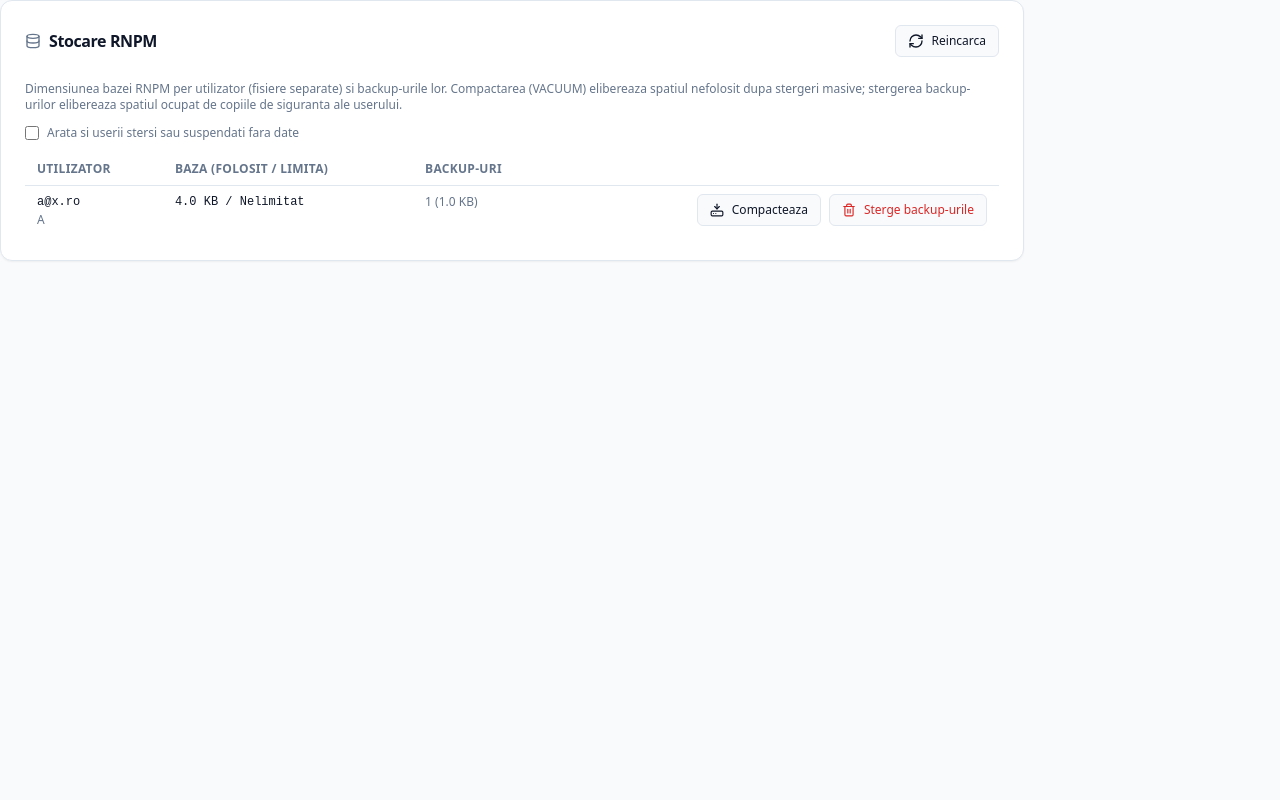
Scenario: AdminRnpmStorage (embedded) › 409 la stergerea backup-urilor se afiseaza ca mesaj prietenos
Click the button "Sterge backup-urile" at (908,210), box 829,194 -> 987,226
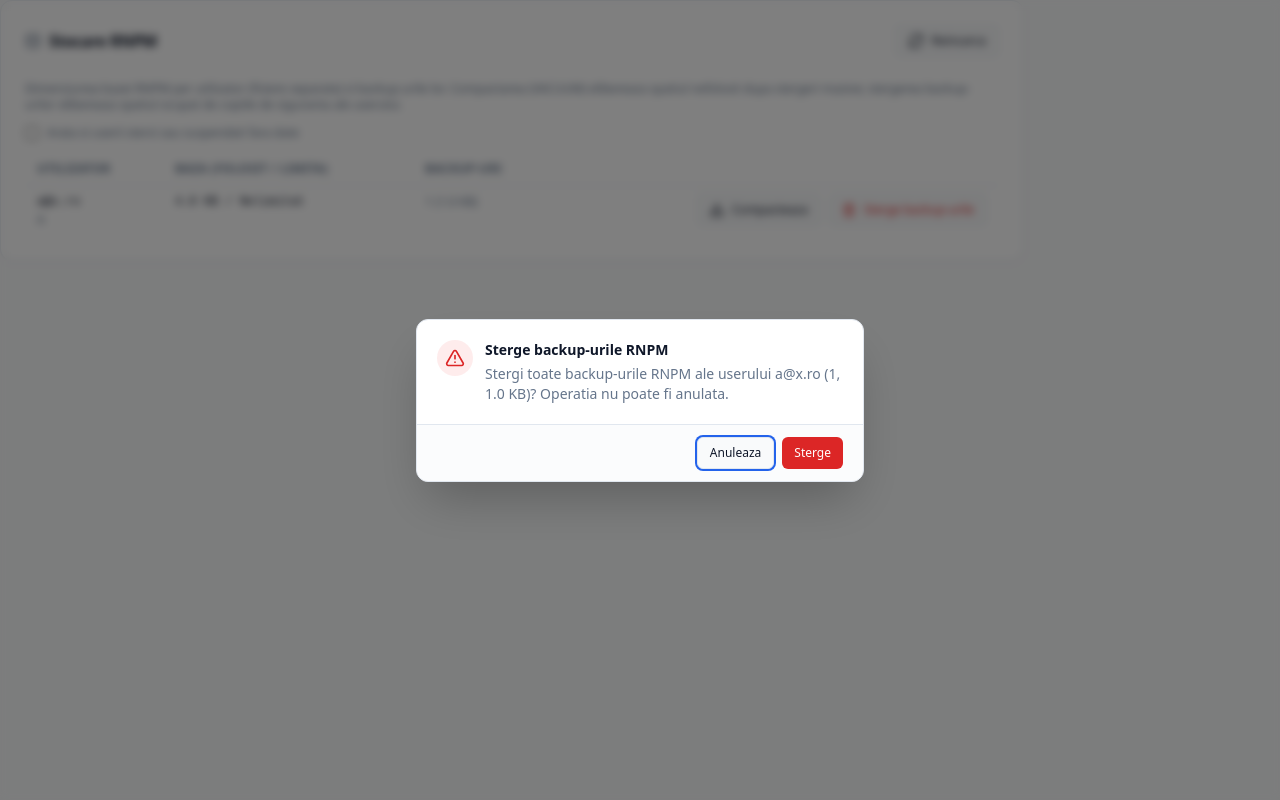
Click the button "Sterge" at (813,452), box 782,436 -> 843,468
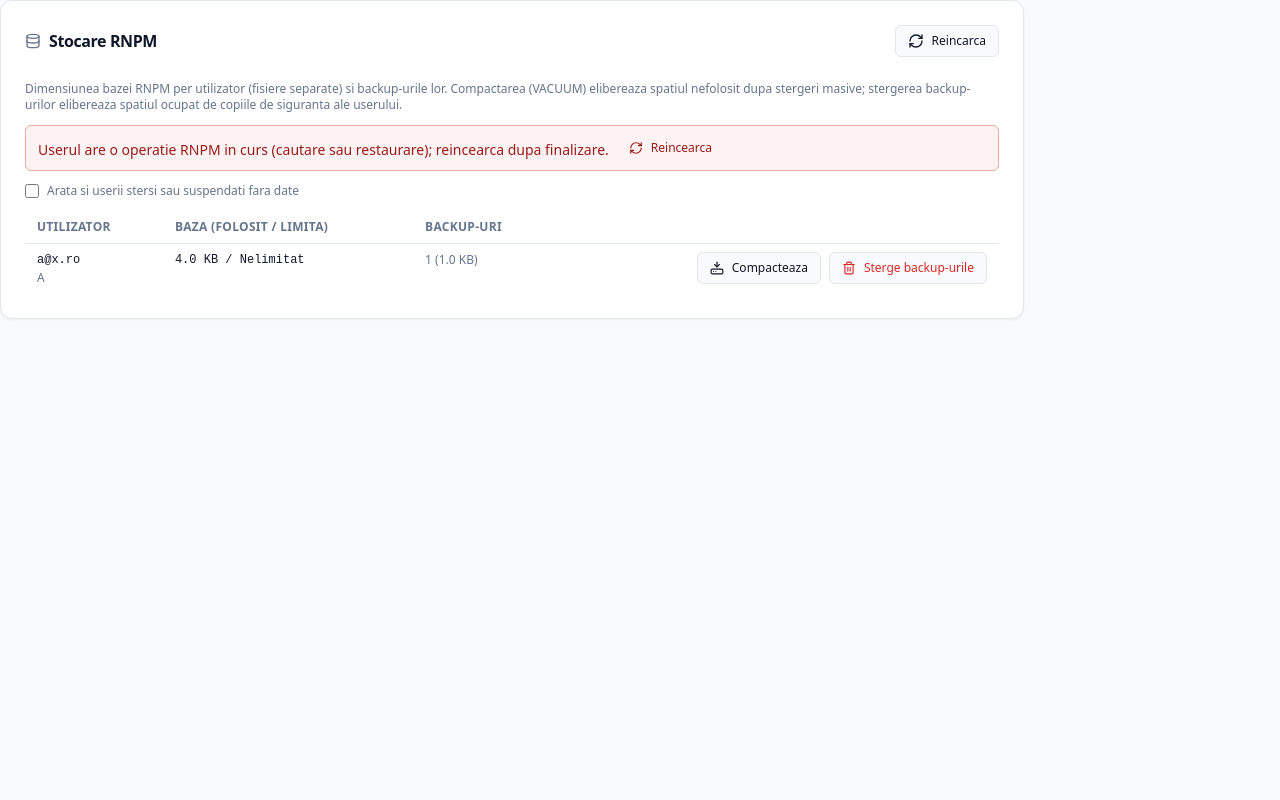
Result: the text "operatie RNPM in curs" is shown at 38,140 -> 609,159
